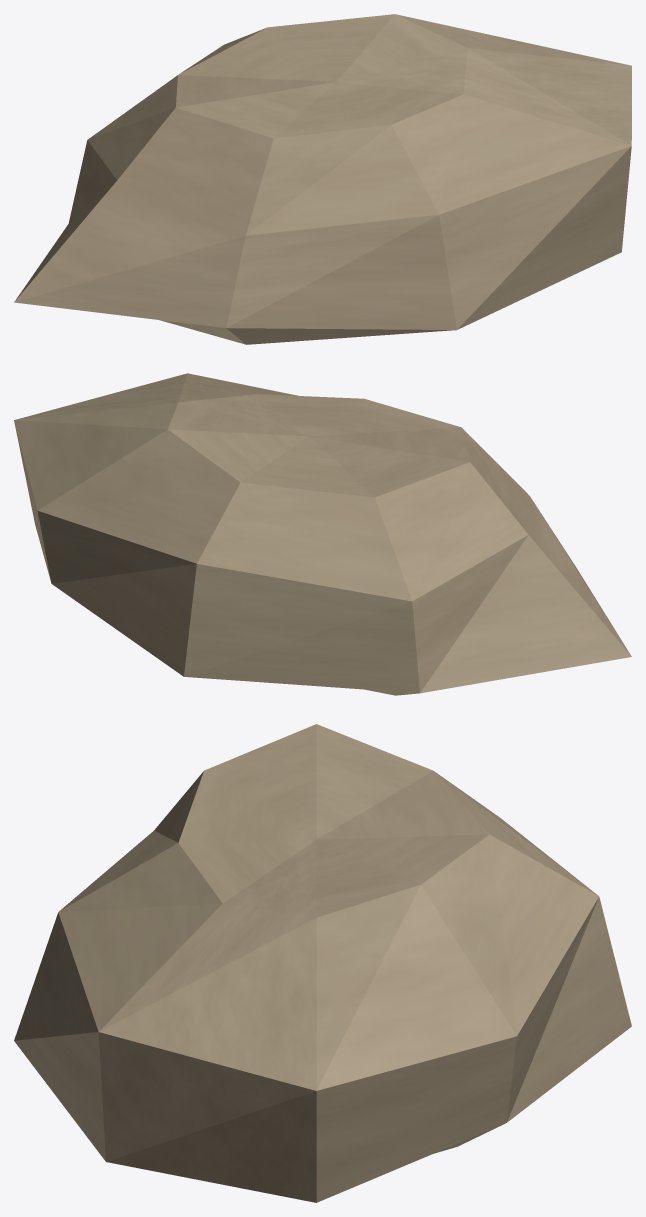
The model's file is SM_CN_Caliche_A_LOD1.fbx.
The picture shows the model from 3 angles, top to bottom: view 1: azimuth 30°, elevation 25°; view 2: azimuth 150°, elevation 25°; view 3: azimuth 270°, elevation 25°; orthographic projection. The views are drawn at different scales.
Visible parts, largest first — view 1: SM_CN_Caliche_A_LOD1; view 2: SM_CN_Caliche_A_LOD1; view 3: SM_CN_Caliche_A_LOD1.
Boxes of the visible parts, left/top/right/bottom form: SM_CN_Caliche_A_LOD1: left=14, top=14, right=631, bottom=344; SM_CN_Caliche_A_LOD1: left=14, top=373, right=631, bottom=695; SM_CN_Caliche_A_LOD1: left=14, top=724, right=631, bottom=1202.
Bounding box in the file's own units: 0.64 × 0.4411 × 0.19.
